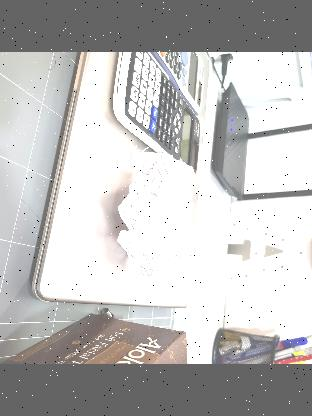Others: (111, 152, 202, 274)
